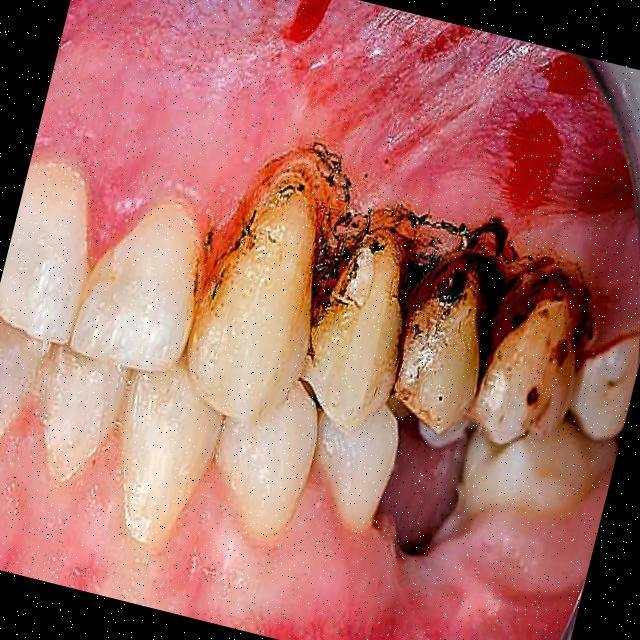calculus: (226, 152, 340, 323), (396, 226, 512, 384), (309, 216, 422, 350), (486, 274, 594, 404)
